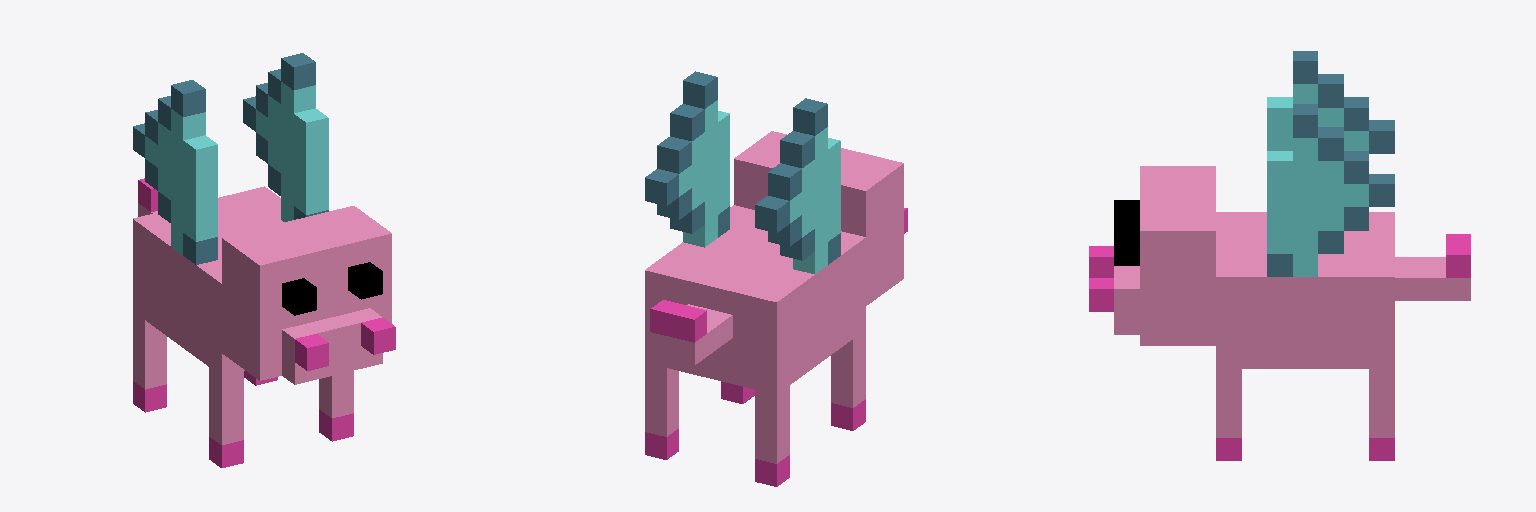
The picture shows the model from 3 angles: view 1: azimuth 30°, elevation 25°; view 2: azimuth 150°, elevation 25°; view 3: azimuth 270°, elevation 25°; orthographic projection.
Size of the model in its own units: 6 by 15 by 15.
Materials: 1 (1 with a texture image).